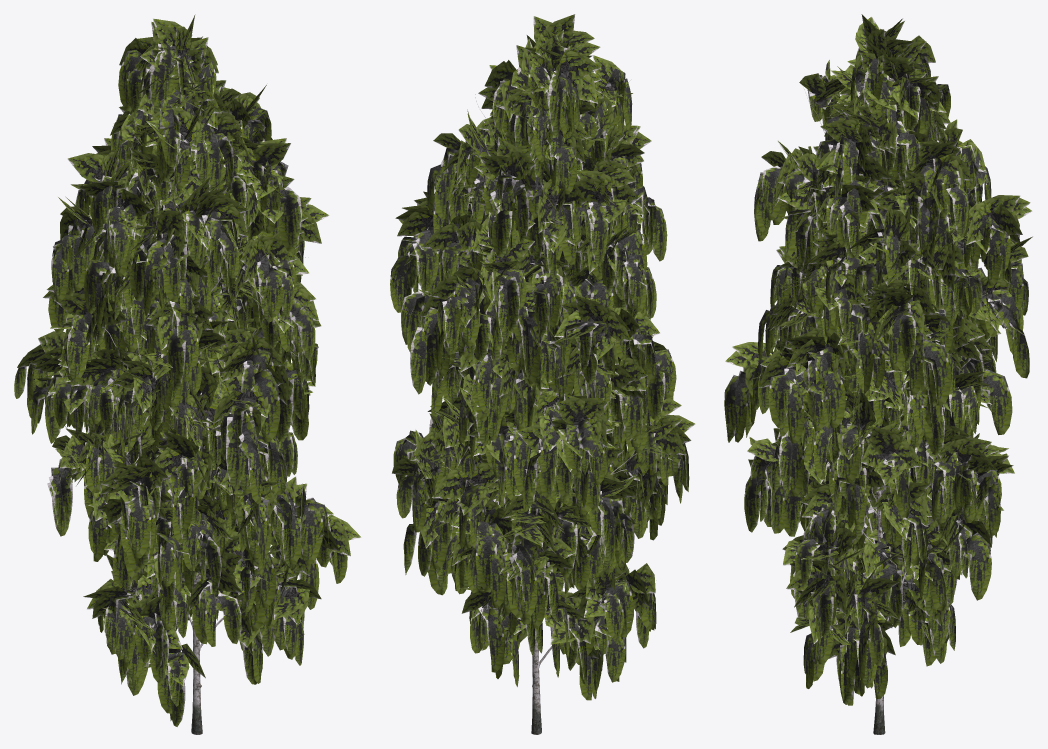
Rendered from birch_big_002.glb.
3 views of the same model, side by side, from view 1: azimuth 30°, elevation 25°; view 2: azimuth 150°, elevation 25°; view 3: azimuth 270°, elevation 25° (orthographic).
Visible parts, largest first — view 1: LOD0; view 2: LOD0; view 3: LOD0.
Part boxes in pixels (left/top/right/bottom): LOD0: left=14, top=14, right=361, bottom=734; LOD0: left=390, top=14, right=695, bottom=734; LOD0: left=724, top=14, right=1032, bottom=734.
Size of the model in its own units: 7.27 by 19.04 by 7.57.
Materials: 1 (1 with a texture image).
